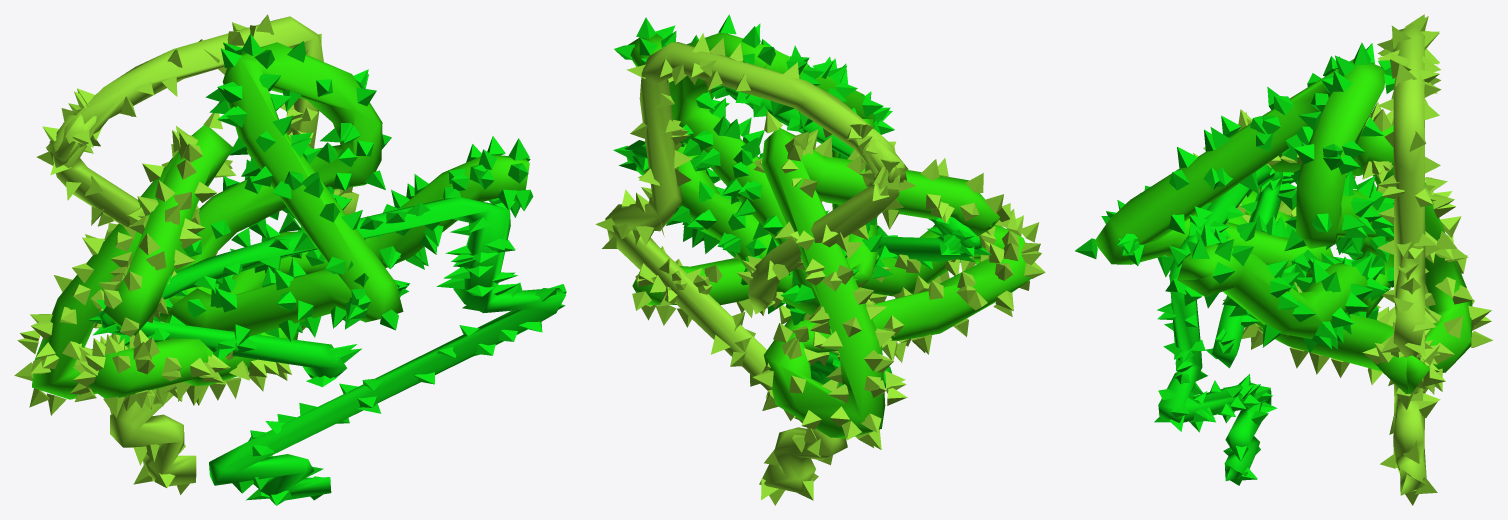
File: ibara13.fbx
3 views of the same model, side by side, from view 1: azimuth 30°, elevation 25°; view 2: azimuth 150°, elevation 25°; view 3: azimuth 270°, elevation 25° (orthographic). The views are drawn at different scales.
Visible parts, largest first — view 1: ベジエカーブ.006; view 2: ベジエカーブ.006; view 3: ベジエカーブ.006.
Boxes of the visible parts, bbox=[...] form: ベジエカーブ.006: bbox=[14, 14, 566, 505]; ベジエカーブ.006: bbox=[595, 14, 1045, 505]; ベジエカーブ.006: bbox=[1075, 14, 1492, 505].
Bounding box in the file's own units: 5.33 × 5.08 × 3.96.
